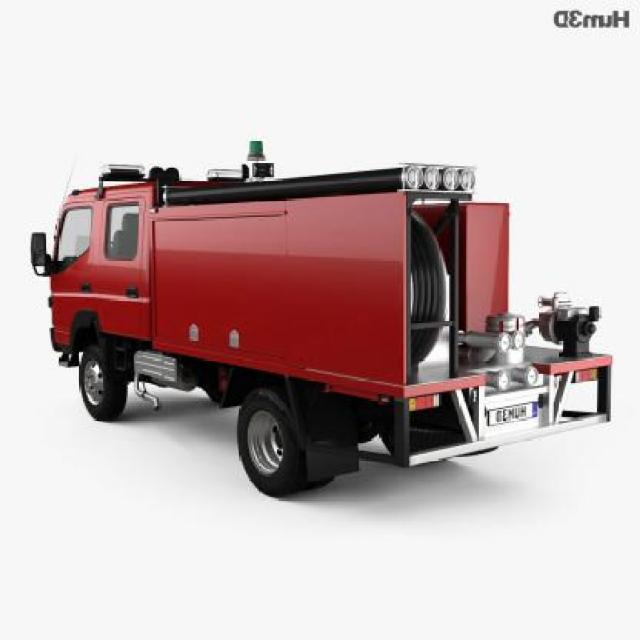truck: (33, 138, 614, 501)
